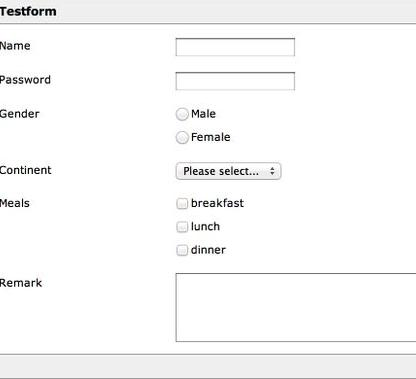field: (173, 70, 297, 92), (174, 37, 295, 58)
